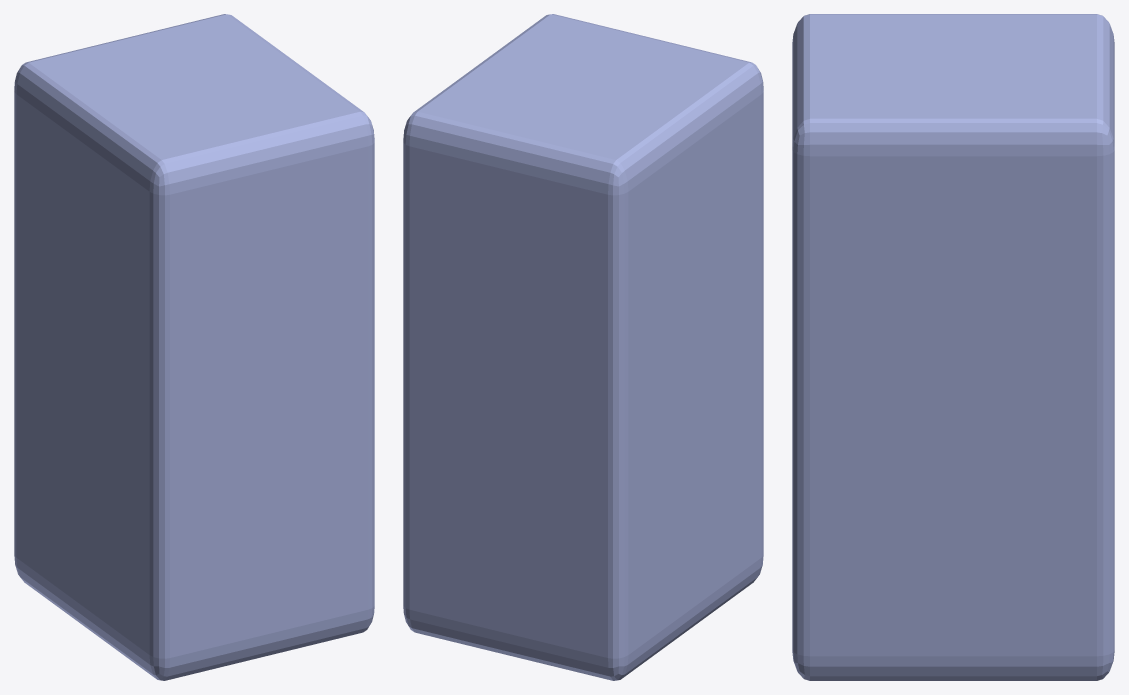
Rendered from char.glb.
3 views of the same model, side by side, from view 1: azimuth 30°, elevation 25°; view 2: azimuth 150°, elevation 25°; view 3: azimuth 270°, elevation 25° (orthographic). The views are drawn at different scales.
Parts seen in each view (by area): view 1: Roundcube.001; view 2: Roundcube.001; view 3: Roundcube.001.
Boxes of the visible parts, <box> form: Roundcube.001: <box>14,14,374,680</box>; Roundcube.001: <box>403,14,763,680</box>; Roundcube.001: <box>792,14,1114,680</box>.
Size of the model in its own units: 0.7106 by 1.59 by 0.8249.
